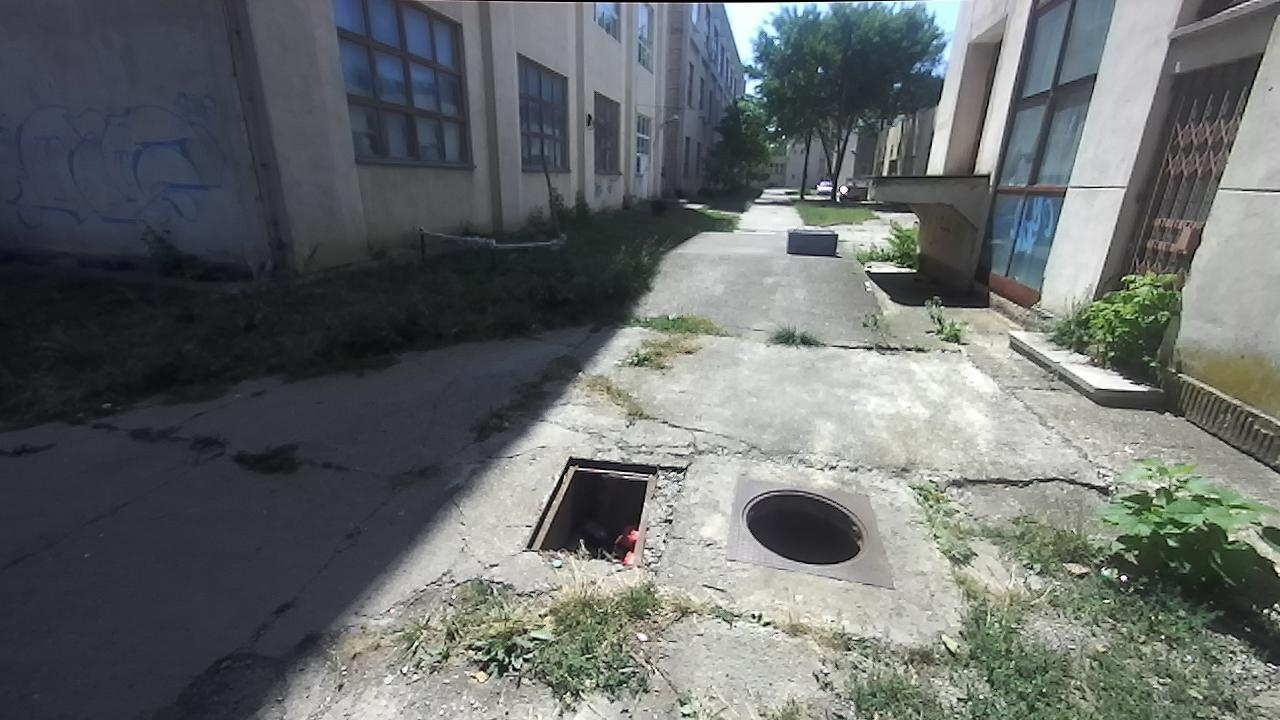drain: (519, 450, 667, 563), (735, 486, 872, 573)
